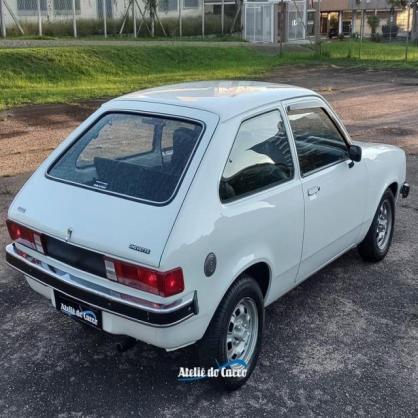car: (1, 79, 412, 389)
